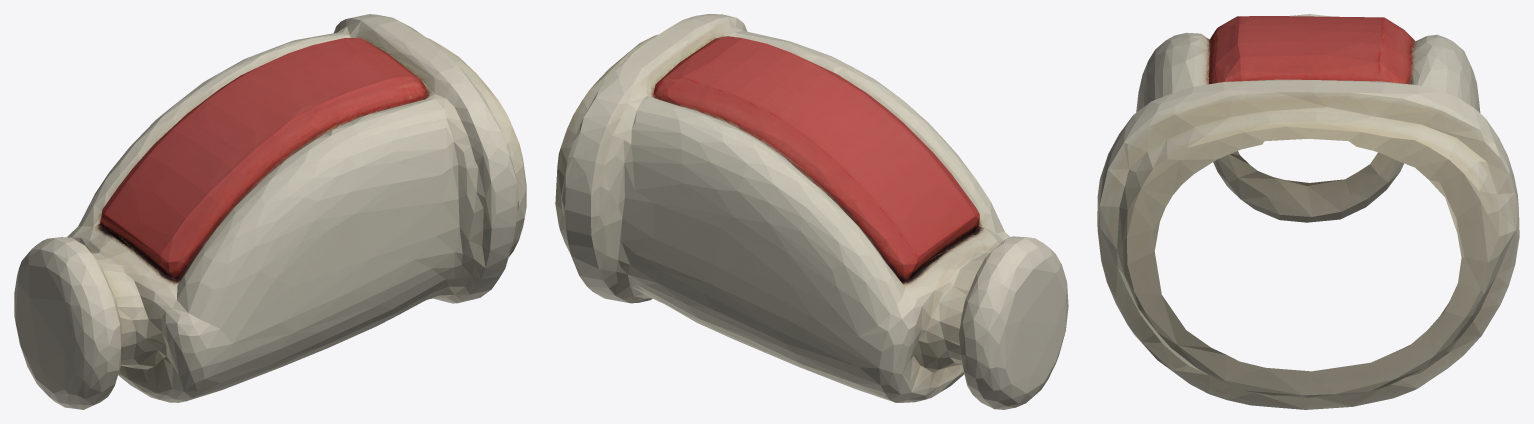
File: EBUS_tip.glb
The picture shows the model from 3 angles, left to right: view 1: azimuth 30°, elevation 25°; view 2: azimuth 150°, elevation 25°; view 3: azimuth 270°, elevation 25°; orthographic projection. The views are drawn at different scales.
Parts seen in each view (by area): view 1: world; view 2: world; view 3: world.
Boxes of the visible parts, x1,y1,x2,y2 form: world: (14,14,526,409); world: (555,14,1068,409); world: (1097,14,1519,409).
Bounding box in the file's own units: 0.3304 × 0.2103 × 0.2259.
1 material, 1 textured.
